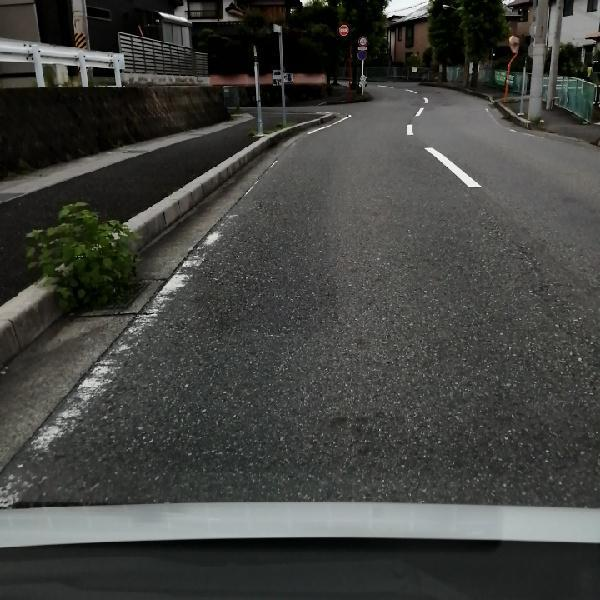D00: (507, 236, 560, 331)
D44: (2, 173, 258, 483)
